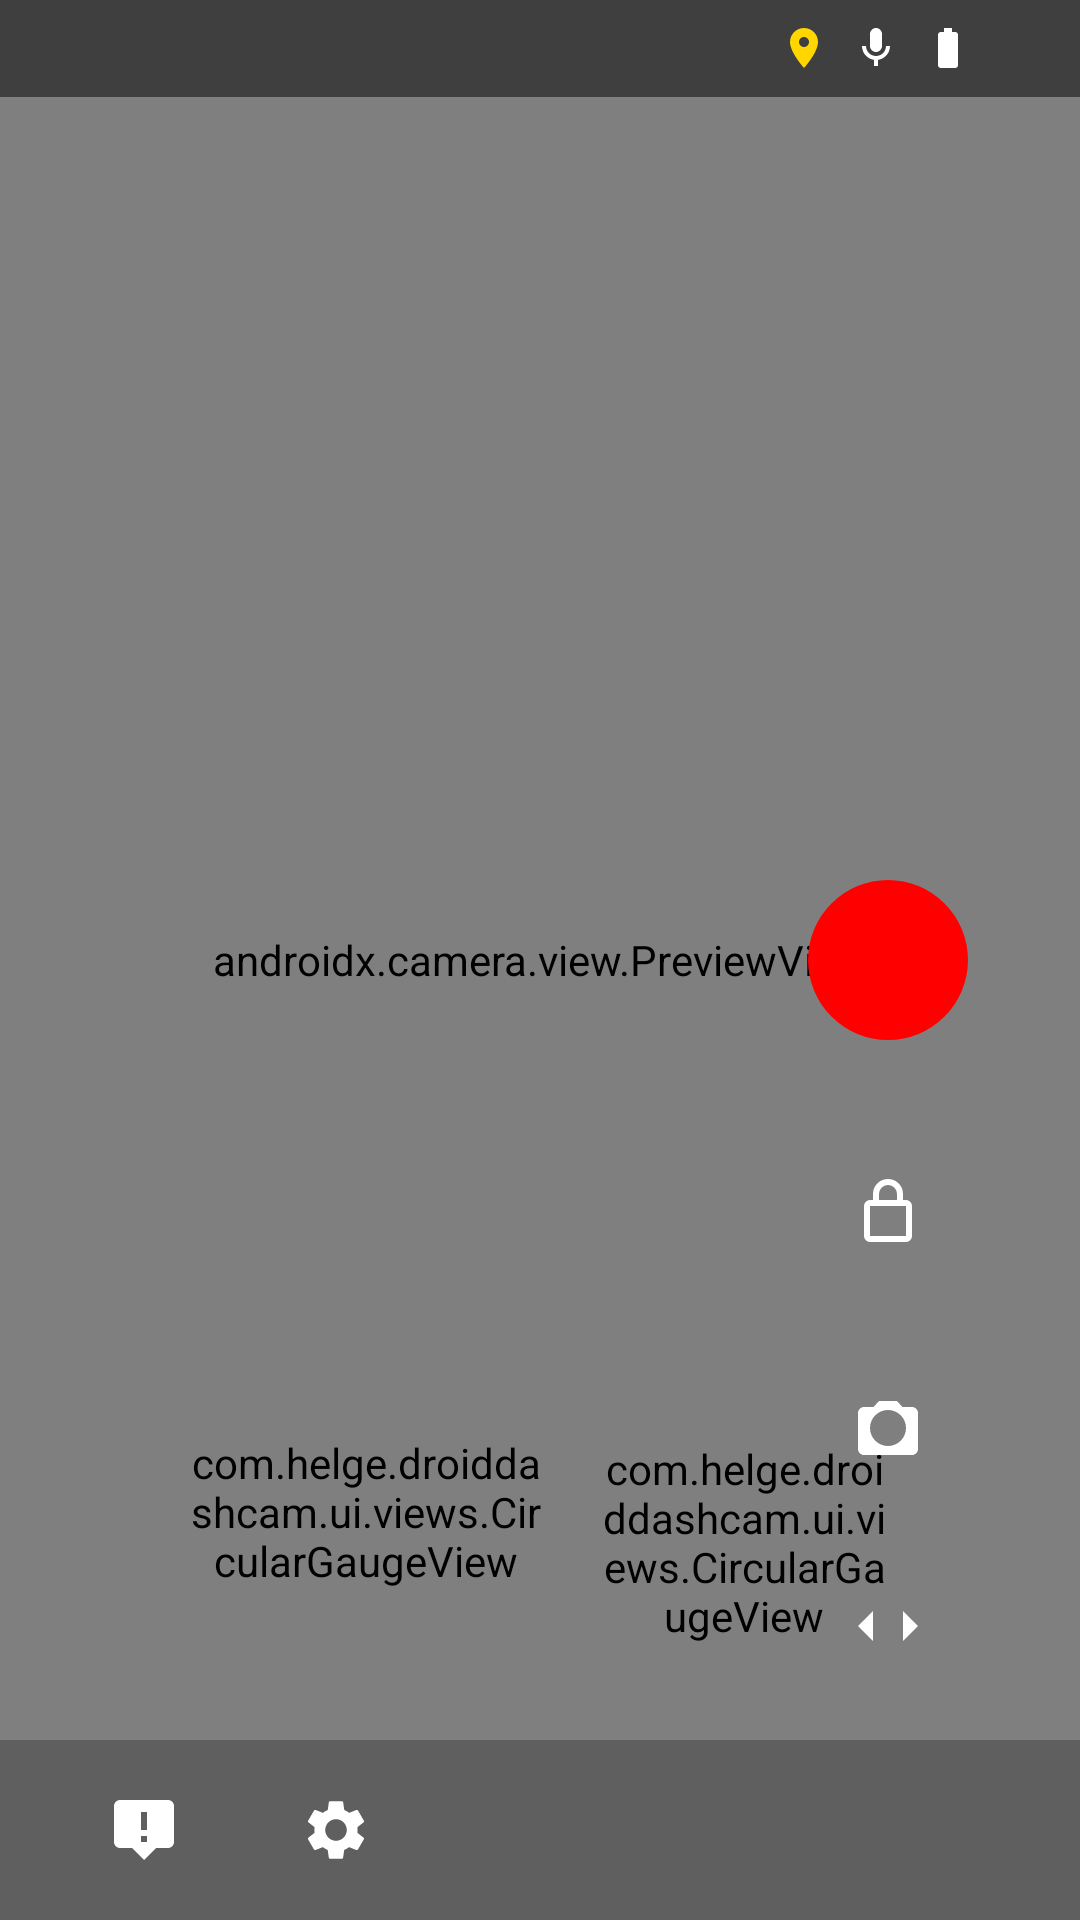

Where to tap for icons on this 1080 x 1920 app screen, as point (x, y):
battery: point (948, 48)
lock: point (888, 1210)
mic: point (876, 47)
settings: point (336, 1830)
